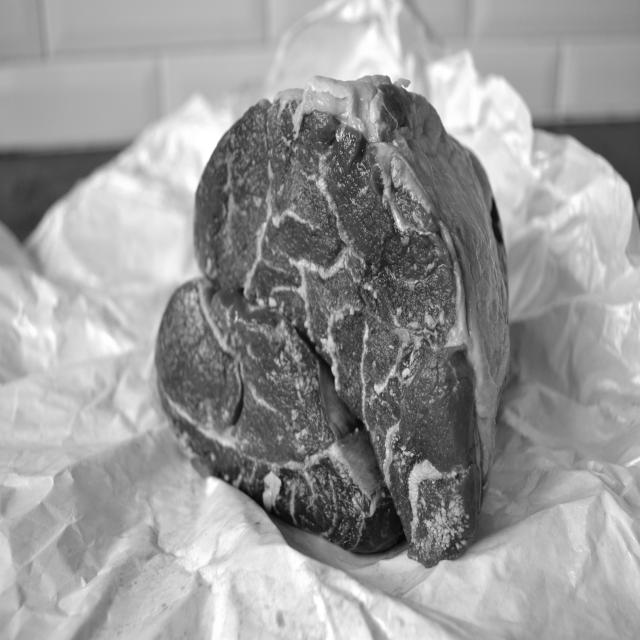ham hock: (155, 82, 512, 560)
